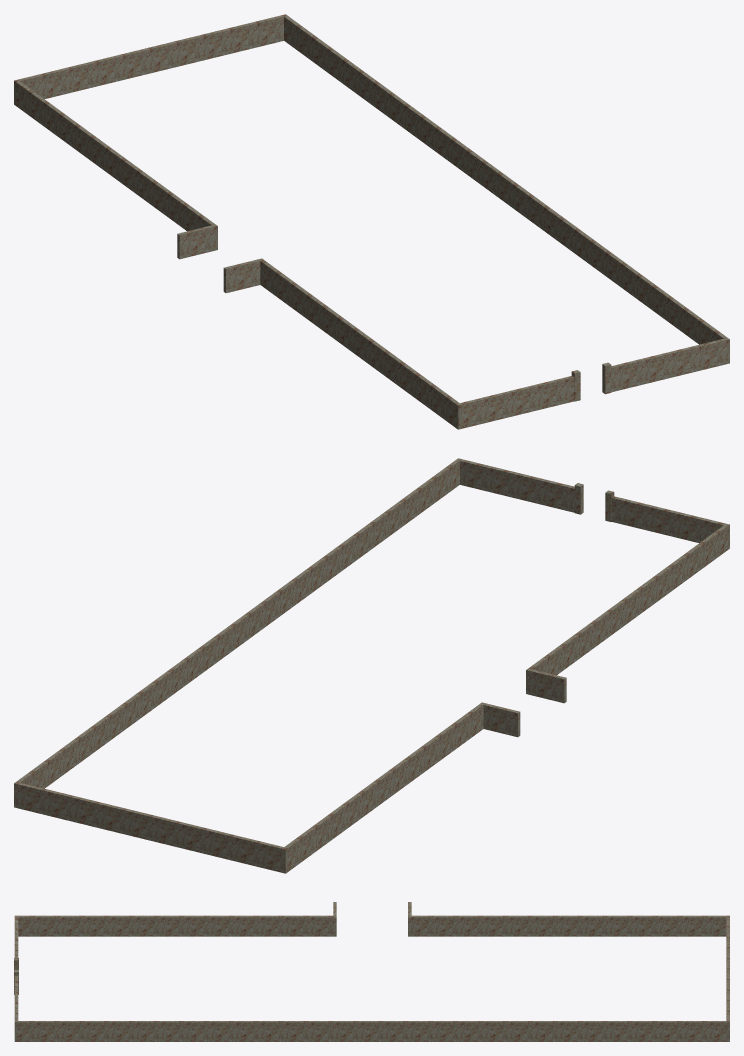
File: barda_panteon.obj
3 renders of one model, top to bottom at view 1: azimuth 30°, elevation 25°; view 2: azimuth 150°, elevation 25°; view 3: azimuth 270°, elevation 25°, orthographic. The views are drawn at different scales.
Visible parts, largest first — view 1: Cubo_002, Cubo_003, Cubo, Cubo_001, Cubo_005, Cubo_004, Cubo_007, Cubo_006; view 2: Cubo_002, Cubo_003, Cubo_001, Cubo, Cubo_005, Cubo_004, Cubo_006, Cubo_007; view 3: Cubo_002, Cubo, Cubo_001, Cubo_003, Cubo_005.
Boxes of the visible parts, x1,y1,x2,y2 form: Cubo_002: (284, 16, 727, 344); Cubo_003: (14, 14, 287, 105); Cubo: (258, 258, 459, 427); Cubo_001: (16, 81, 217, 250); Cubo_005: (611, 338, 729, 392); Cubo_004: (456, 376, 574, 429); Cubo_007: (223, 259, 260, 293); Cubo_006: (177, 225, 213, 259); Cubo_002: (16, 460, 459, 788); Cubo_003: (14, 782, 287, 873); Cubo_001: (284, 702, 485, 871); Cubo: (526, 525, 727, 694); Cubo_005: (456, 458, 574, 512); Cubo_004: (611, 496, 729, 549); Cubo_006: (483, 703, 520, 737); Cubo_007: (530, 669, 566, 703); Cubo_002: (18, 1021, 726, 1041); Cubo: (18, 915, 336, 936); Cubo_001: (408, 915, 726, 936); Cubo_003: (726, 915, 729, 1041); Cubo_005: (14, 975, 18, 1041).
Size of the model in its own units: 40 by 3.5 by 101.
